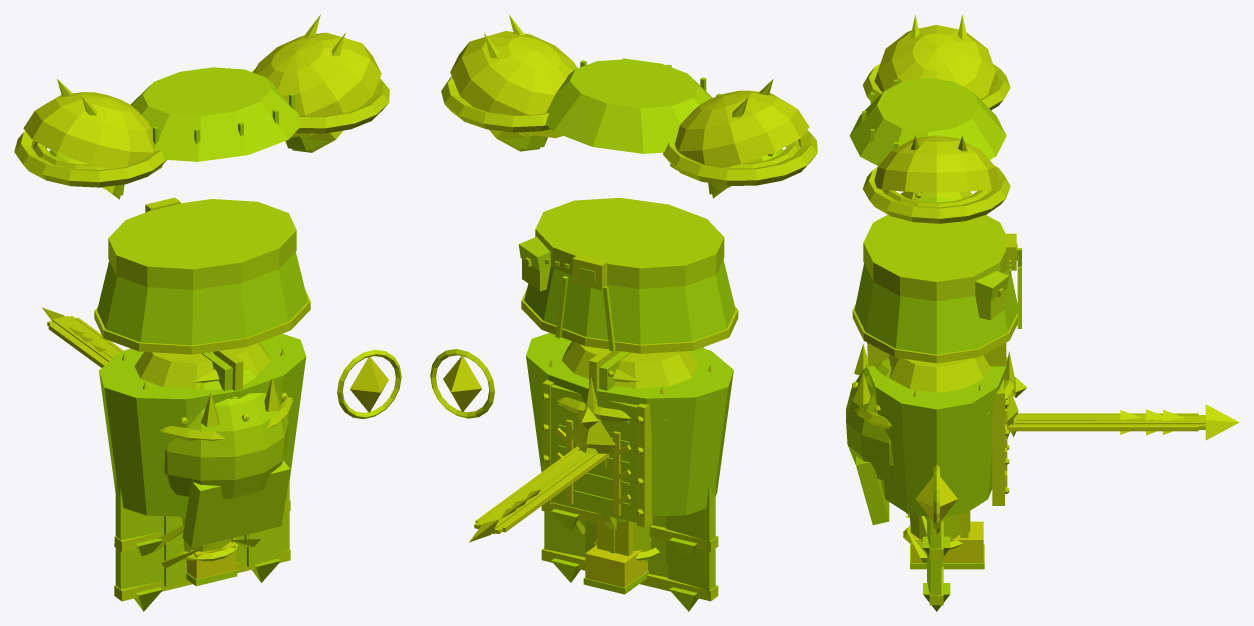
The model's file is hero.glb.
3 views of the same model, side by side, from view 1: azimuth 30°, elevation 25°; view 2: azimuth 150°, elevation 25°; view 3: azimuth 270°, elevation 25° (orthographic). The views are drawn at different scales.
Parts seen in each view (by area): view 1: hp_body_tunic__matte, hp_head_cowl__matte, hp_torso_tunic__matte, hp_mantle__matte, hp_pauldron_big_l__metal, hp_pauldron_big_r__metal, hp_cape_lower_long__matte, hp_torso_tunic__metal, hp_body_hem__metal, hp_boot__matte, hp_orbit_charm__metal, hp_orbit_charm__glow (+11 smaller); view 2: hp_body_tunic__matte, hp_torso_tunic__matte, hp_mantle__matte, hp_pauldron_big_l__metal, hp_pauldron_big_r__metal, hp_torso_tunic__metal, hp_cape_lower_long__matte, hp_boot__matte, hp_cape_upper__matte, hp_body_hem__metal, hp_sword_relic__metal, hp_torso_runes__glow (+15 smaller); view 3: hp_body_tunic__matte, hp_torso_tunic__matte, hp_pauldron_big_r__metal, hp_mantle__matte, hp_pauldron_big_l__metal, hp_torso_tunic__metal, hp_head_cowl__matte, hp_boot__matte, hp_sword_relic__metal, hp_body_hem__metal, hp_sword_relic_glow__glow, hp_cape_lower_long__matte (+7 smaller).
Boxes of the visible parts, x1=… form: hp_body_tunic__matte: x1=97, y1=199, x2=307, y2=345; hp_head_cowl__matte: x1=164, y1=351, x2=290, y2=547; hp_torso_tunic__matte: x1=99, y1=333, x2=306, y2=516; hp_mantle__matte: x1=130, y1=67, x2=300, y2=161; hp_pauldron_big_l__metal: x1=14, y1=92, x2=166, y2=187; hp_pauldron_big_r__metal: x1=251, y1=32, x2=389, y2=137; hp_cape_lower_long__matte: x1=115, y1=479, x2=289, y2=611; hp_torso_tunic__metal: x1=115, y1=342, x2=270, y2=389; hp_body_hem__metal: x1=94, y1=290, x2=310, y2=354; hp_boot__matte: x1=180, y1=516, x2=237, y2=586; hp_orbit_charm__metal: x1=337, y1=349, x2=401, y2=419; hp_orbit_charm__glow: x1=350, y1=357, x2=388, y2=412; hp_body_tunic__matte: x1=518, y1=197, x2=735, y2=351; hp_torso_tunic__matte: x1=526, y1=333, x2=733, y2=522; hp_mantle__matte: x1=545, y1=58, x2=722, y2=153; hp_pauldron_big_l__metal: x1=663, y1=90, x2=817, y2=185; hp_pauldron_big_r__metal: x1=441, y1=31, x2=577, y2=138; hp_torso_tunic__metal: x1=541, y1=341, x2=697, y2=527; hp_cape_lower_long__matte: x1=544, y1=485, x2=715, y2=611; hp_boot__matte: x1=583, y1=516, x2=652, y2=594; hp_cape_upper__matte: x1=548, y1=509, x2=705, y2=574; hp_body_hem__metal: x1=521, y1=289, x2=738, y2=353; hp_sword_relic__metal: x1=469, y1=448, x2=602, y2=542; hp_torso_runes__glow: x1=555, y1=419, x2=630, y2=515; hp_body_tunic__matte: x1=854, y1=215, x2=1021, y2=354; hp_torso_tunic__matte: x1=866, y1=361, x2=1006, y2=516; hp_pauldron_big_r__metal: x1=863, y1=135, x2=1010, y2=223; hp_mantle__matte: x1=849, y1=78, x2=1006, y2=165; hp_pauldron_big_l__metal: x1=862, y1=25, x2=1010, y2=110; hp_torso_tunic__metal: x1=888, y1=355, x2=1009, y2=505; hp_head_cowl__matte: x1=846, y1=358, x2=893, y2=525; hp_boot__matte: x1=909, y1=514, x2=984, y2=569; hp_sword_relic__metal: x1=1009, y1=404, x2=1239, y2=440; hp_body_hem__metal: x1=852, y1=304, x2=1017, y2=363; hp_sword_relic_glow__glow: x1=1007, y1=413, x2=1198, y2=431; hp_cape_lower_long__matte: x1=923, y1=516, x2=950, y2=611.
Size of the model in its own units: 1.92 by 2.64 by 1.84.
